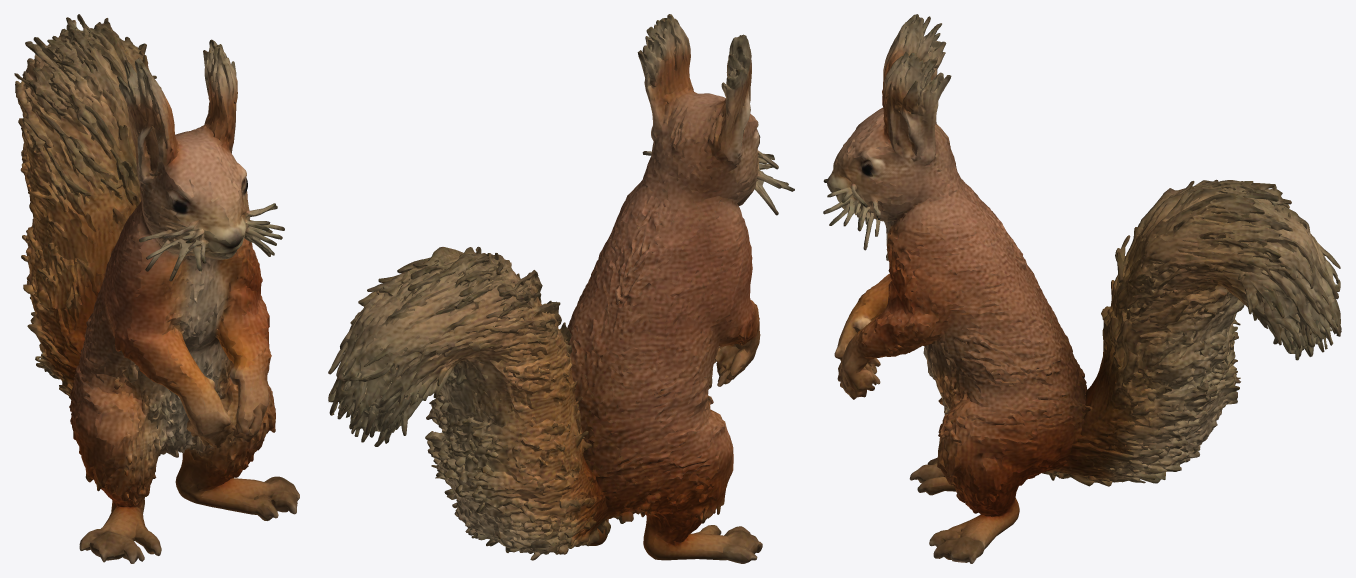
File: red-squirrel-v21.glb
The picture shows the model from 3 angles, left to right: view 1: azimuth 30°, elevation 25°; view 2: azimuth 150°, elevation 25°; view 3: azimuth 270°, elevation 25°; orthographic projection. The views are drawn at different scales.
Parts seen in each view (by area): view 1: geometry_0; view 2: geometry_0; view 3: geometry_0.
Boxes of the visible parts, <box> form: geometry_0: <box>14,14,299,563</box>; geometry_0: <box>328,14,794,563</box>; geometry_0: <box>823,14,1341,563</box>.
Size of the model in its own units: 0.1481 by 0.3 by 0.2997.
Materials: 1 (1 with a texture image).
